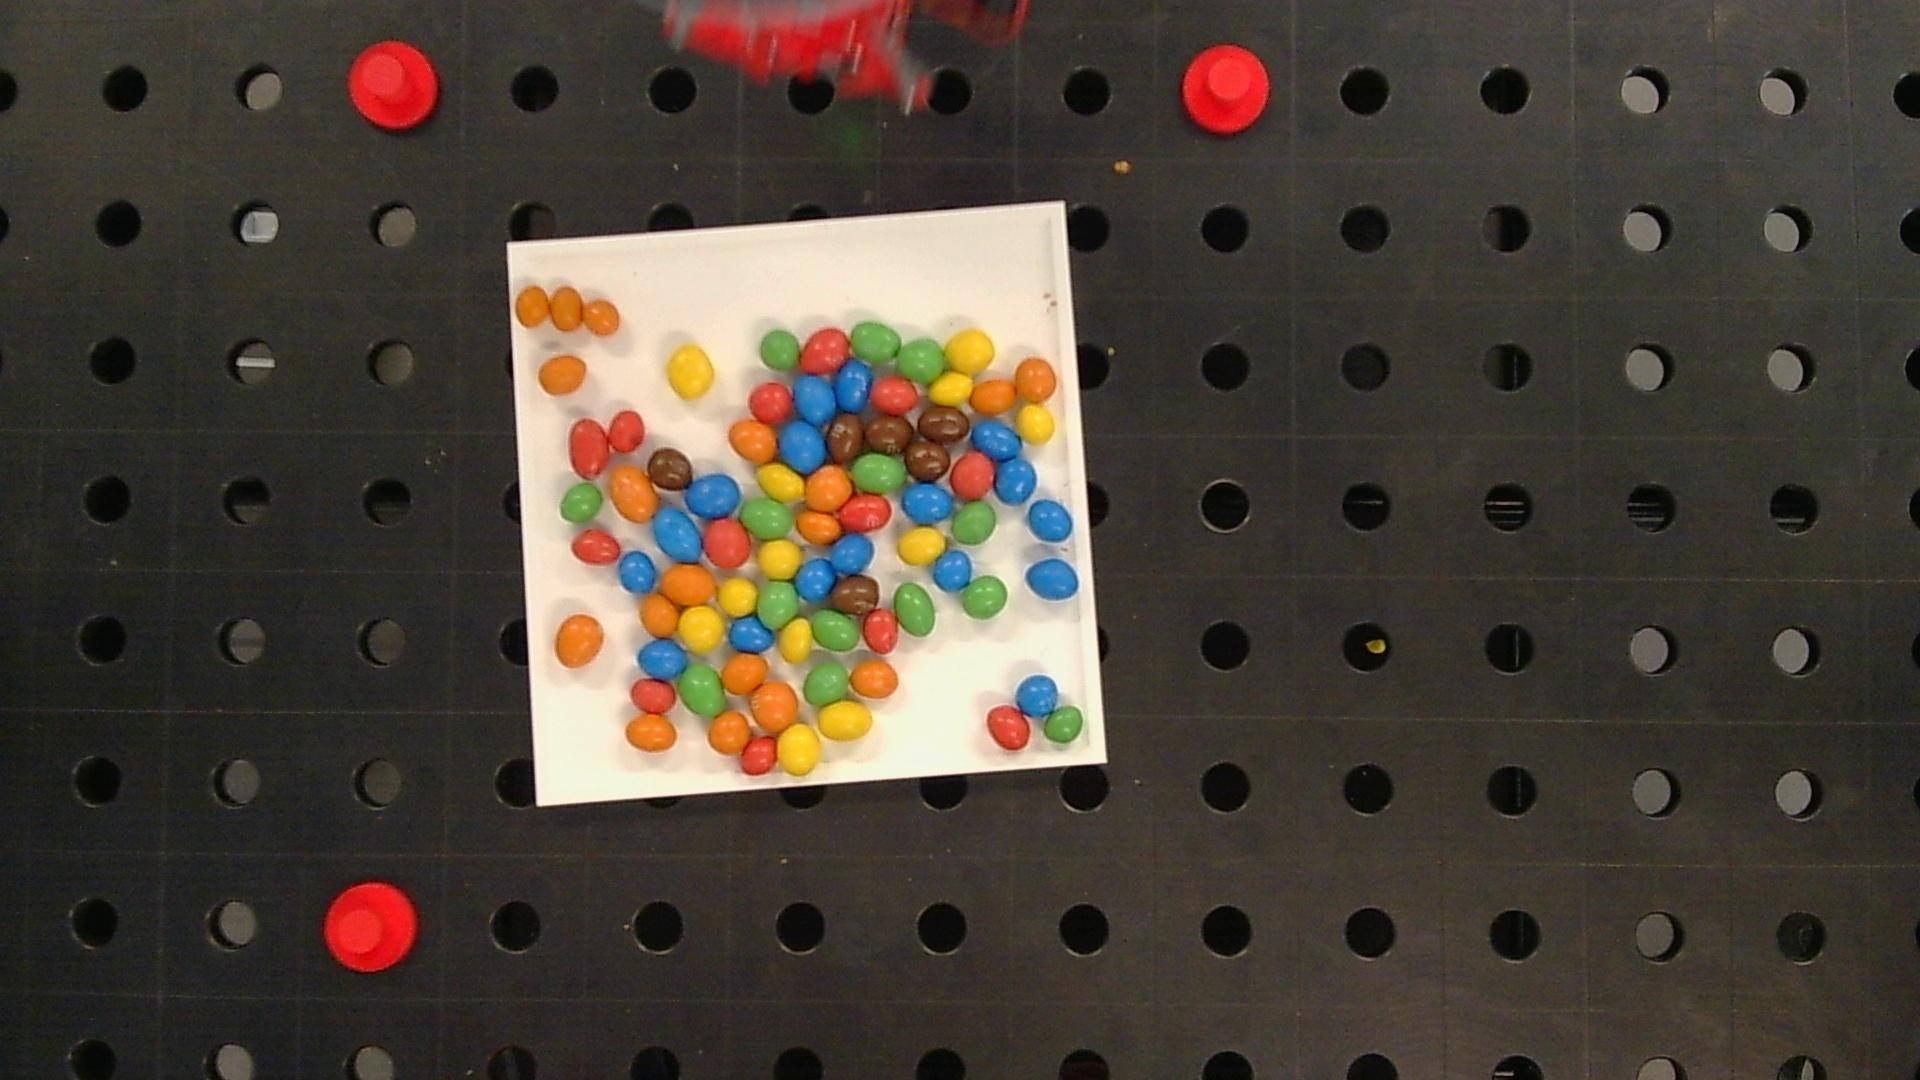blue: (654, 509, 703, 562), (687, 473, 740, 517), (781, 422, 825, 471), (1027, 559, 1079, 600), (794, 376, 836, 423), (972, 421, 1021, 462), (902, 484, 952, 522), (1027, 500, 1072, 542), (638, 638, 686, 678), (836, 360, 873, 410), (794, 559, 837, 601), (996, 459, 1036, 504), (832, 533, 873, 574), (1017, 675, 1058, 715), (729, 616, 773, 651), (934, 550, 971, 591), (618, 551, 655, 592)
brown: (647, 447, 692, 491), (905, 439, 949, 480), (865, 415, 913, 454), (833, 576, 880, 615), (827, 415, 864, 463), (919, 407, 968, 443)
green: (679, 663, 724, 715), (894, 583, 935, 636), (741, 497, 794, 538), (852, 452, 905, 493), (849, 322, 901, 363), (898, 339, 944, 382), (952, 501, 997, 545), (961, 576, 1007, 618), (812, 609, 858, 651), (804, 662, 848, 705), (758, 582, 799, 628), (559, 484, 603, 522), (760, 330, 799, 371), (1043, 705, 1084, 744)
orange: (609, 467, 657, 521), (555, 615, 604, 666), (752, 680, 798, 731), (661, 566, 716, 604), (729, 421, 778, 463), (806, 465, 852, 509), (625, 715, 676, 752), (538, 355, 585, 394), (708, 711, 750, 754), (1015, 357, 1056, 402), (851, 661, 898, 698), (723, 654, 766, 694), (969, 378, 1017, 414), (641, 593, 679, 636), (550, 286, 583, 328), (516, 286, 550, 326), (798, 512, 840, 542), (584, 299, 620, 335)
red: (568, 418, 609, 477), (703, 520, 750, 566), (800, 328, 849, 373), (949, 454, 994, 498), (986, 705, 1030, 749), (840, 495, 890, 529), (749, 384, 793, 422), (872, 377, 918, 413), (571, 531, 620, 563), (608, 410, 645, 451), (864, 609, 898, 653), (630, 679, 675, 712), (740, 738, 777, 774)
yellow: (667, 344, 715, 398), (816, 700, 872, 740), (777, 724, 819, 774), (945, 330, 994, 372), (679, 607, 724, 651), (898, 527, 944, 564), (758, 464, 804, 501), (758, 541, 802, 579), (779, 618, 812, 662), (1018, 405, 1054, 443), (719, 578, 757, 613), (928, 372, 972, 402)
